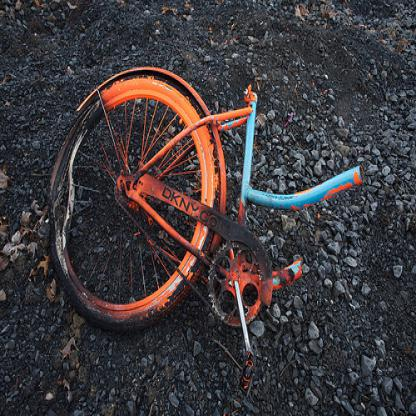bicycle: (48, 65, 364, 395)
